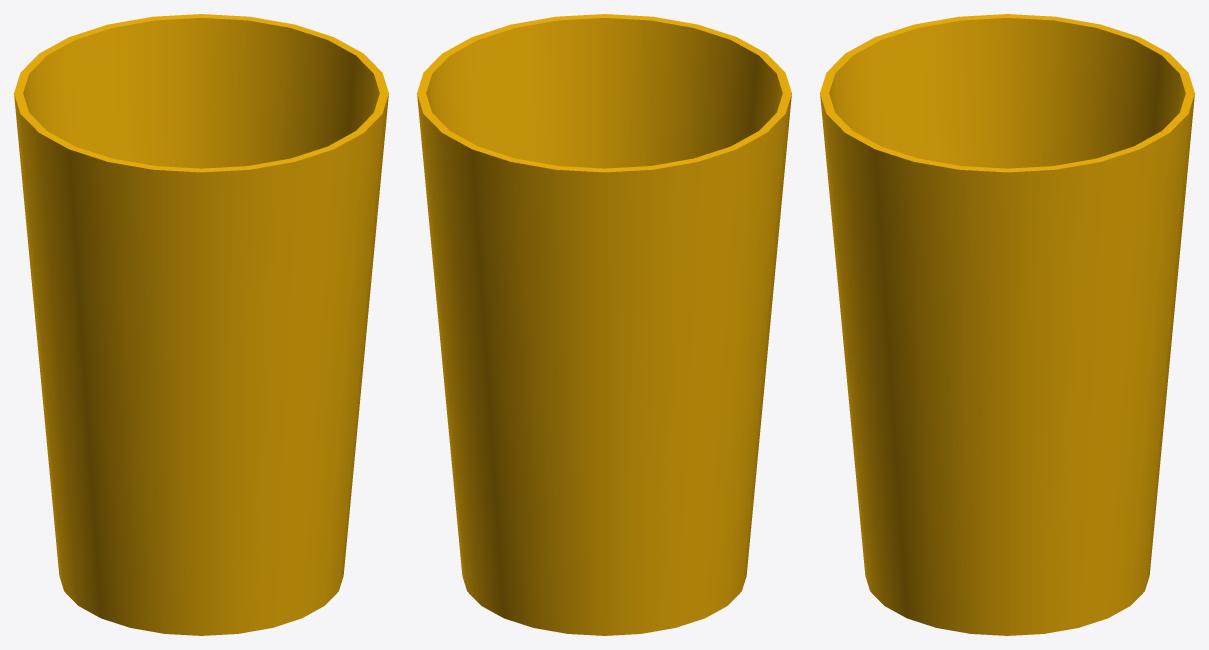
3 renders of one model, left to right at view 1: azimuth 30°, elevation 25°; view 2: azimuth 150°, elevation 25°; view 3: azimuth 270°, elevation 25°, orthographic.
Visible parts, largest first — view 1: mesh1_mesh1-geometry; view 2: mesh1_mesh1-geometry; view 3: mesh1_mesh1-geometry.
Part boxes in pixels (x1,y1,x2,y2): mesh1_mesh1-geometry: (14,14,388,635); mesh1_mesh1-geometry: (417,14,791,635); mesh1_mesh1-geometry: (820,14,1194,635).
Bounding box in the file's own units: 0.4989 × 0.7086 × 0.4989.
